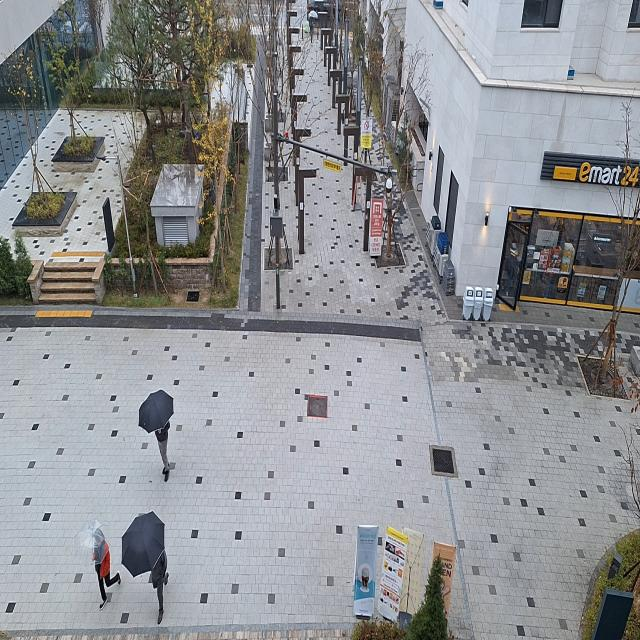Car: (300, 0, 348, 24)
